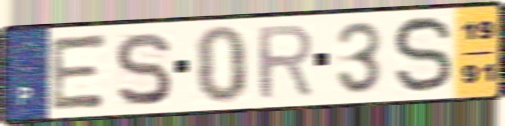0: (187, 24, 253, 107)
3: (333, 19, 385, 97)
E: (47, 31, 111, 113)
R: (254, 21, 317, 103)
S: (390, 13, 456, 97), (111, 29, 175, 109)
